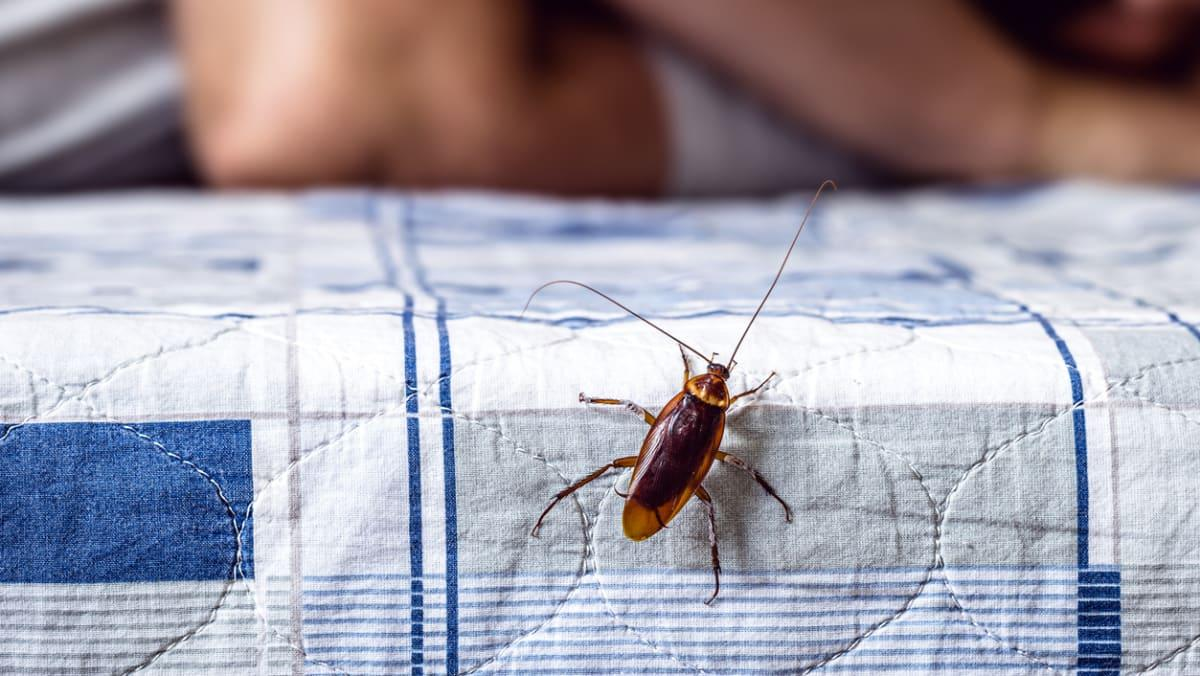cockroach: (616, 348, 740, 550)
